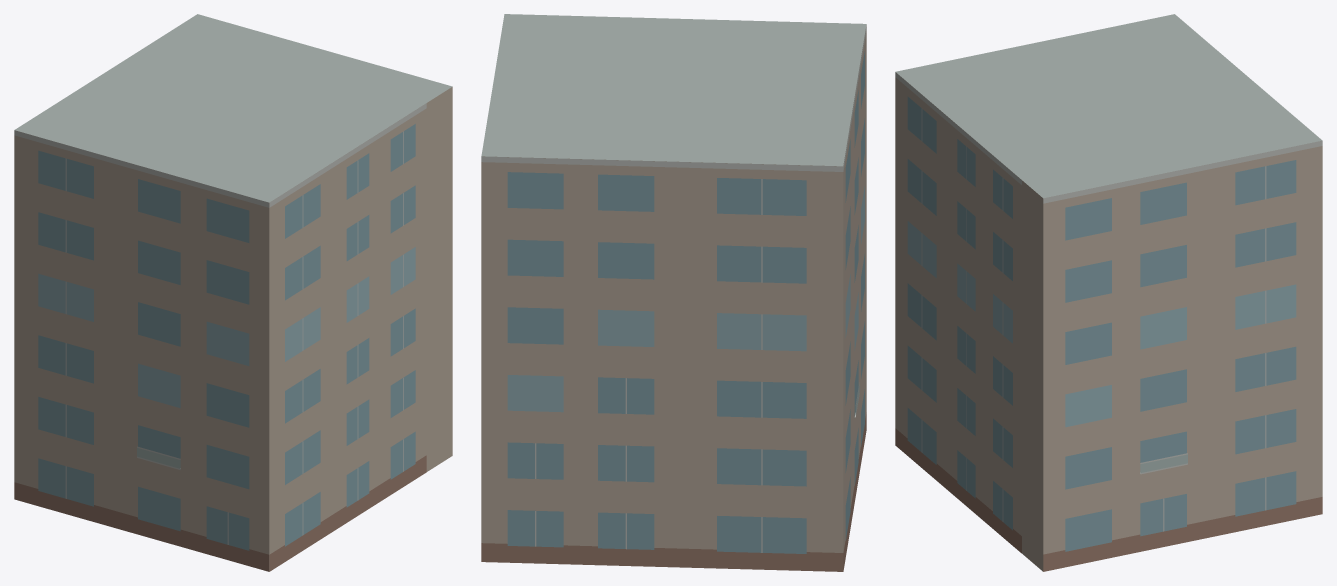
The model's file is survey-upis-32737023.glb.
The picture shows the model from 3 angles, left to right: view 1: azimuth 30°, elevation 25°; view 2: azimuth 150°, elevation 25°; view 3: azimuth 270°, elevation 25°; orthographic projection. The views are drawn at different scales.
Parts seen in each view (by area): view 1: survey-upis-32737023.tmp; view 2: survey-upis-32737023.tmp; view 3: survey-upis-32737023.tmp.
Boxes of the visible parts, x1,y1,x2,y2 form: survey-upis-32737023.tmp: [14, 14, 452, 571]; survey-upis-32737023.tmp: [481, 14, 866, 571]; survey-upis-32737023.tmp: [895, 14, 1322, 571].
Bounding box in the file's own units: 18.22 × 17.2 × 17.85.
